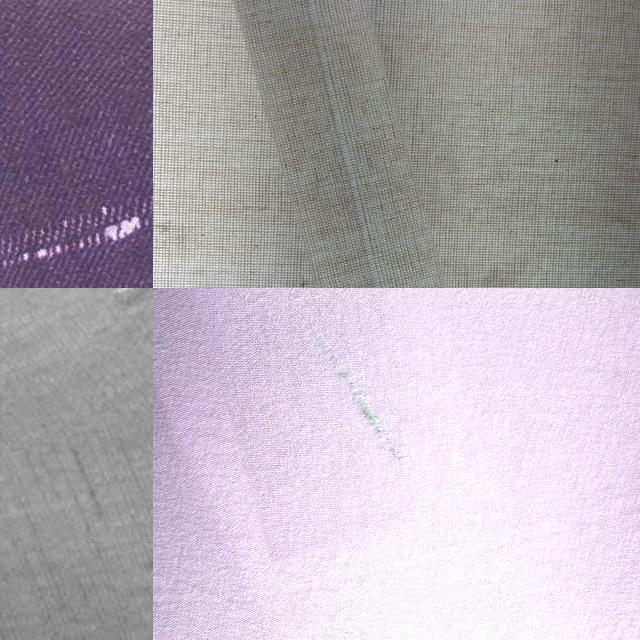pulled_or_thick_thread: (295, 0, 392, 283)
